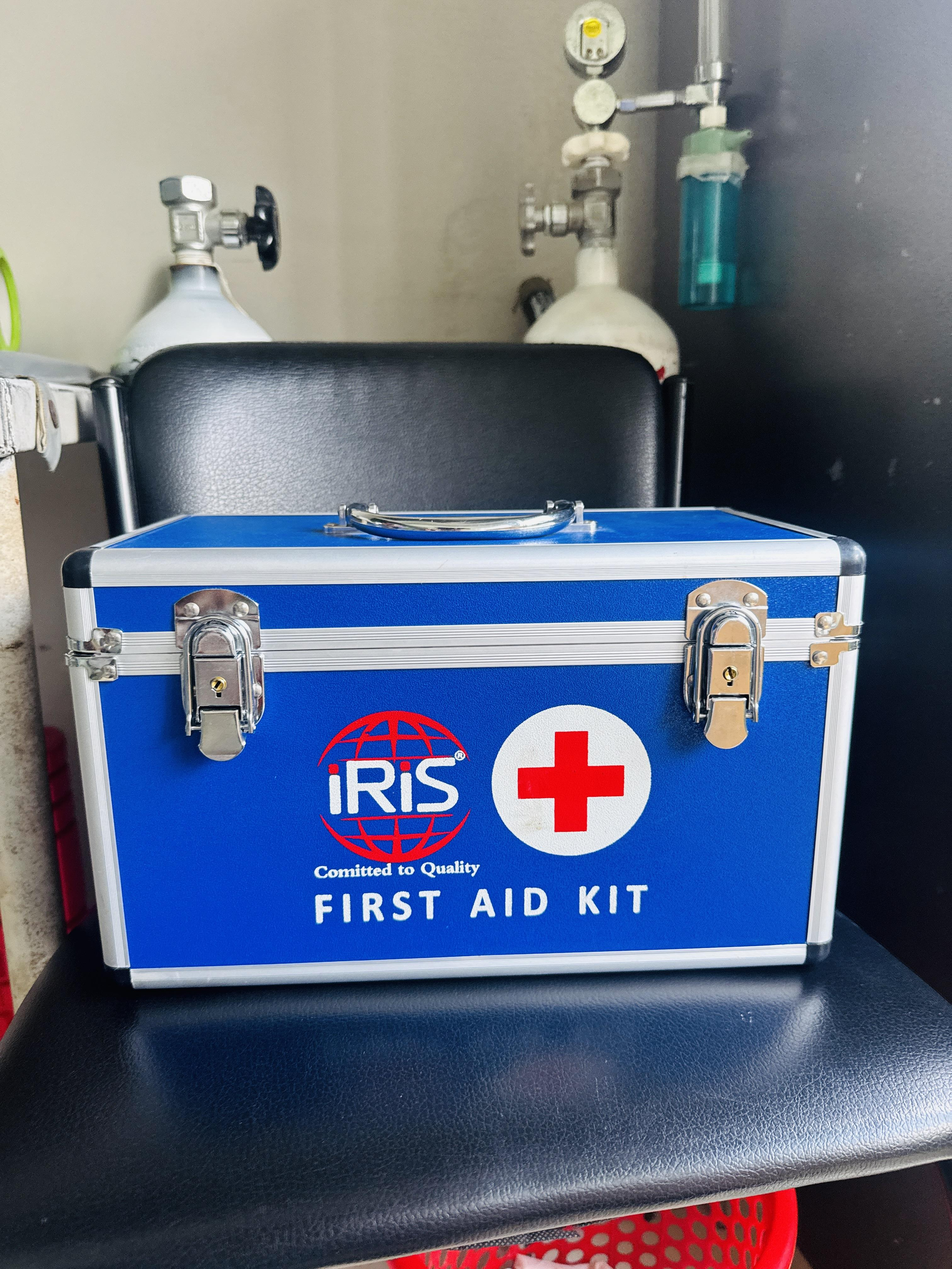FirstAidBox: (33, 484, 878, 1006)
